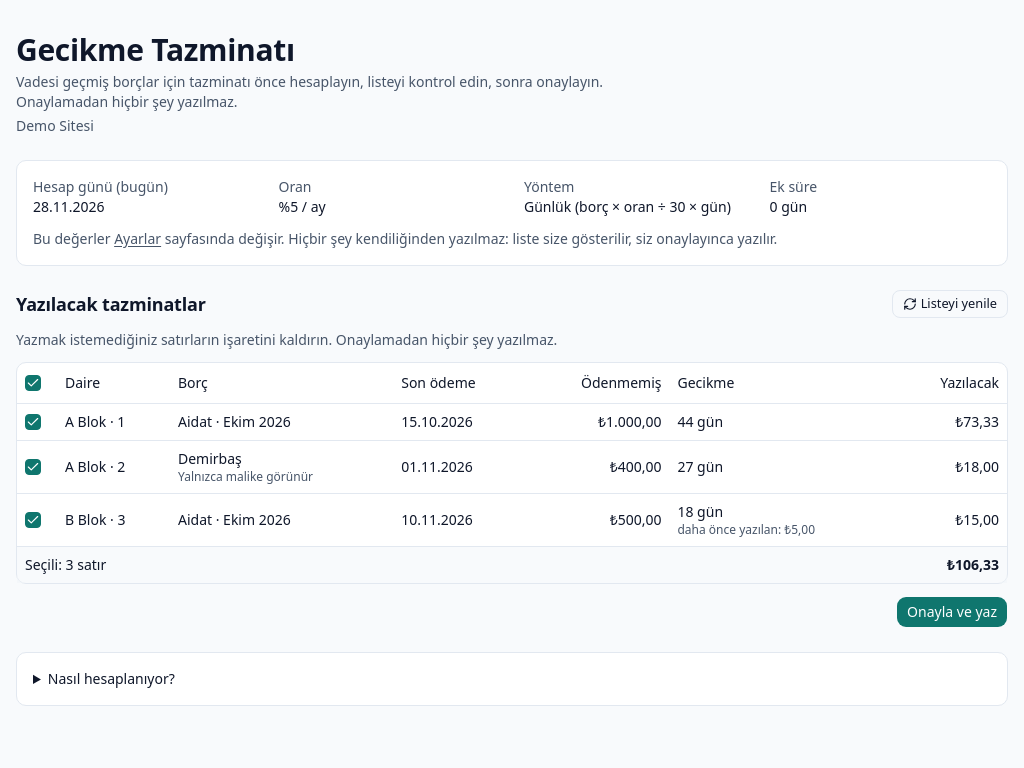
Test: Gecikme Tazminatı: approve › sends the ticked lines with the day, the count and the total the person saw, then reloads and says it worked
Expected: the text "A Blok · 1" is shown, [57,403,170,440]
Step 1. Click the checkbox named "A Blok · 2 Demirbaş için tazminat yaz" → coordinates (33, 466), box [25,458,41,474]
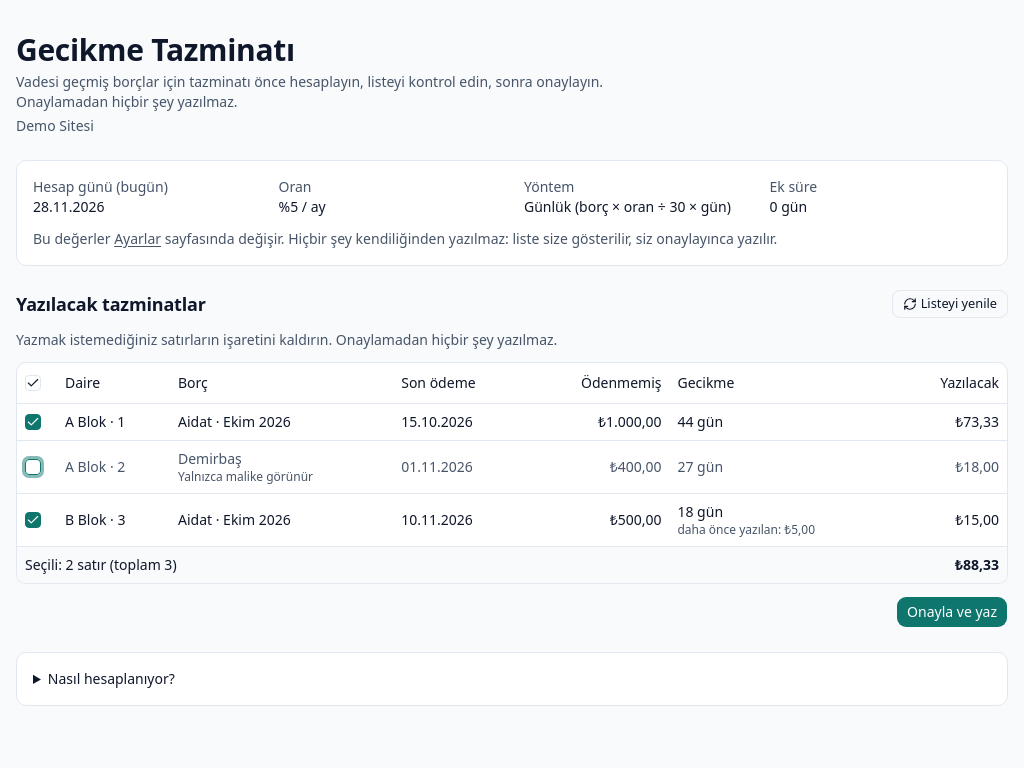
Step 2. Click the button "Onayla ve yaz" → coordinates (952, 612), box [896,596,1008,628]
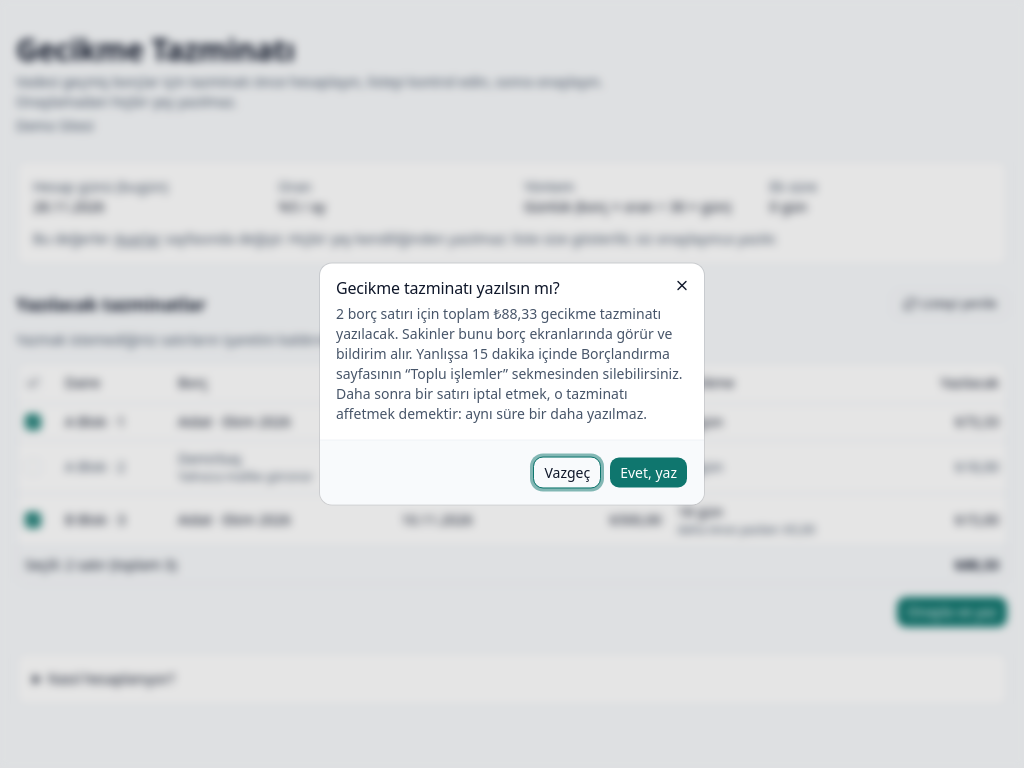
Step 3. Click the button "Evet, yaz" → coordinates (649, 472), box [609,456,688,488]
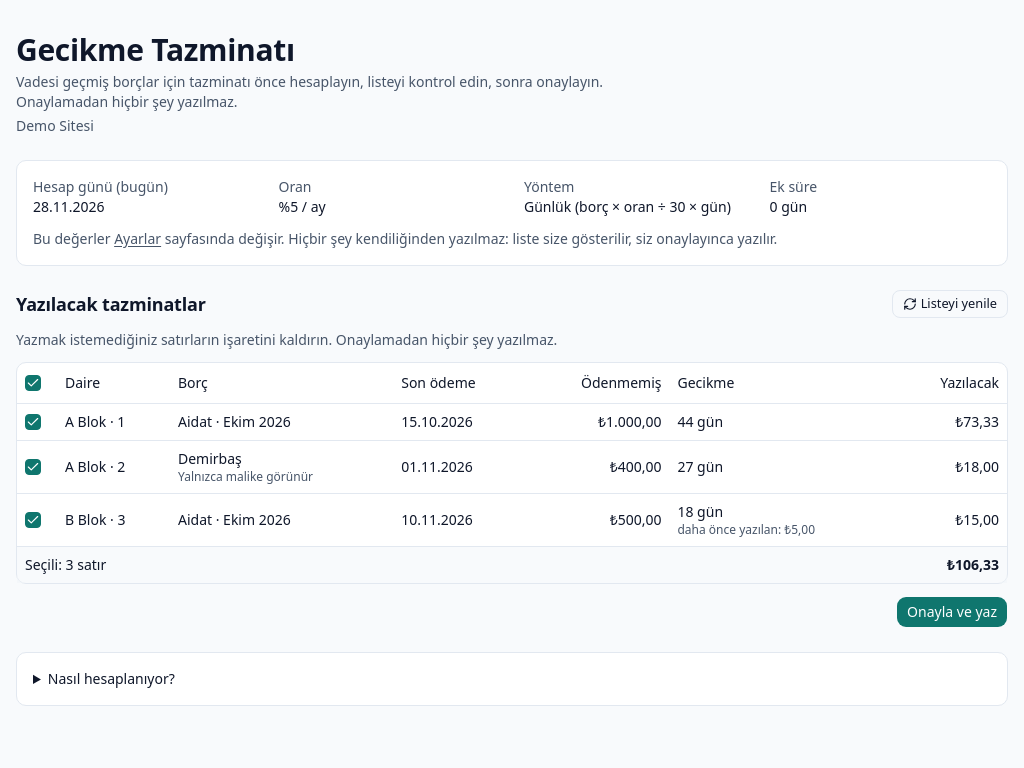
Result: the dialog is gone
